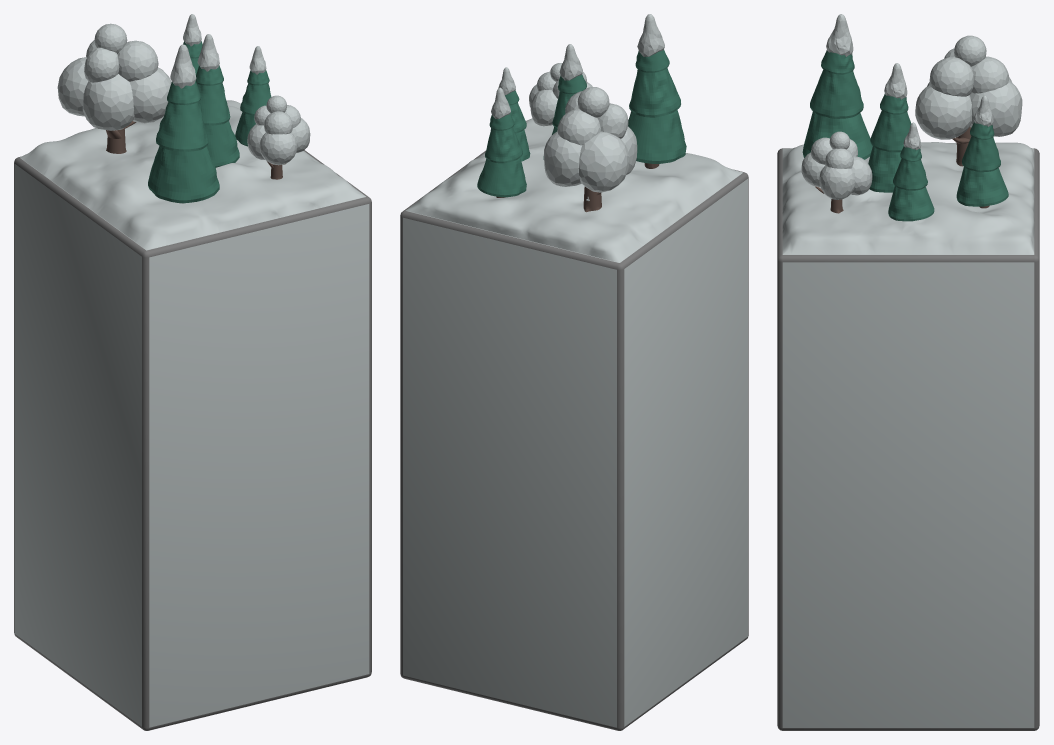
The model's file is tile3.fbx.
3 views of the same model, side by side, from view 1: azimuth 30°, elevation 25°; view 2: azimuth 150°, elevation 25°; view 3: azimuth 270°, elevation 25° (orthographic). The views are drawn at different scales.
Visible parts, largest first — view 1: ель.002; view 2: ель.002; view 3: ель.002.
Part boxes in pixels (<box>): ель.002: <box>14,14,371,730</box>; ель.002: <box>400,14,748,730</box>; ель.002: <box>777,14,1039,730</box>.
Bounding box in the file's own units: 200 × 540 × 200.
